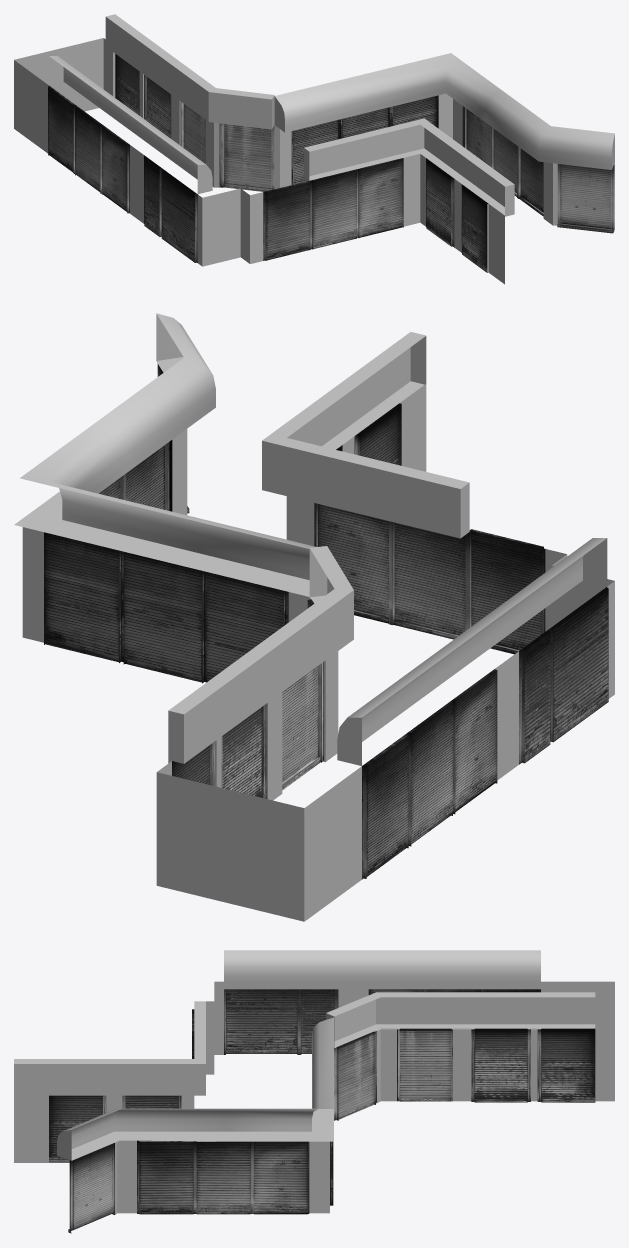
Rendered from downtown_alley.fbx.
3 views of the same model, one above another, from view 1: azimuth 30°, elevation 25°; view 2: azimuth 150°, elevation 25°; view 3: azimuth 270°, elevation 25° (orthographic). The views are drawn at different scales.
Parts seen in each view (by area): view 1: alleyway, alleyway_awnings; view 2: alleyway, alleyway_awnings; view 3: alleyway, alleyway_awnings.
Part boxes in pixels (<box>): alleyway: <box>14,38,614,284</box>; alleyway_awnings: <box>49,14,614,216</box>; alleyway: <box>22,364,614,921</box>; alleyway_awnings: <box>14,313,607,765</box>; alleyway: <box>14,981,614,1233</box>; alleyway_awnings: <box>14,950,595,1160</box>.
Bounding box in the file's own units: 1616 × 440 × 2277.
